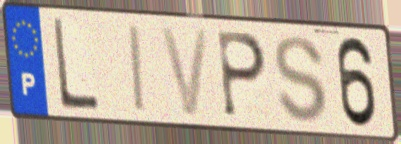6: (334, 34, 379, 131)
I: (128, 23, 149, 117)
L: (49, 16, 101, 114)
P: (215, 28, 269, 122)
S: (271, 32, 330, 126)
V: (157, 24, 212, 119)
